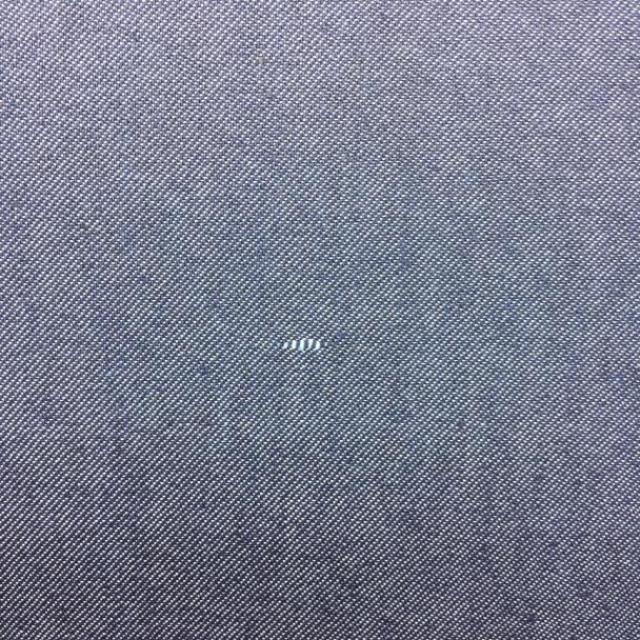Knot: (282, 338, 322, 352)
